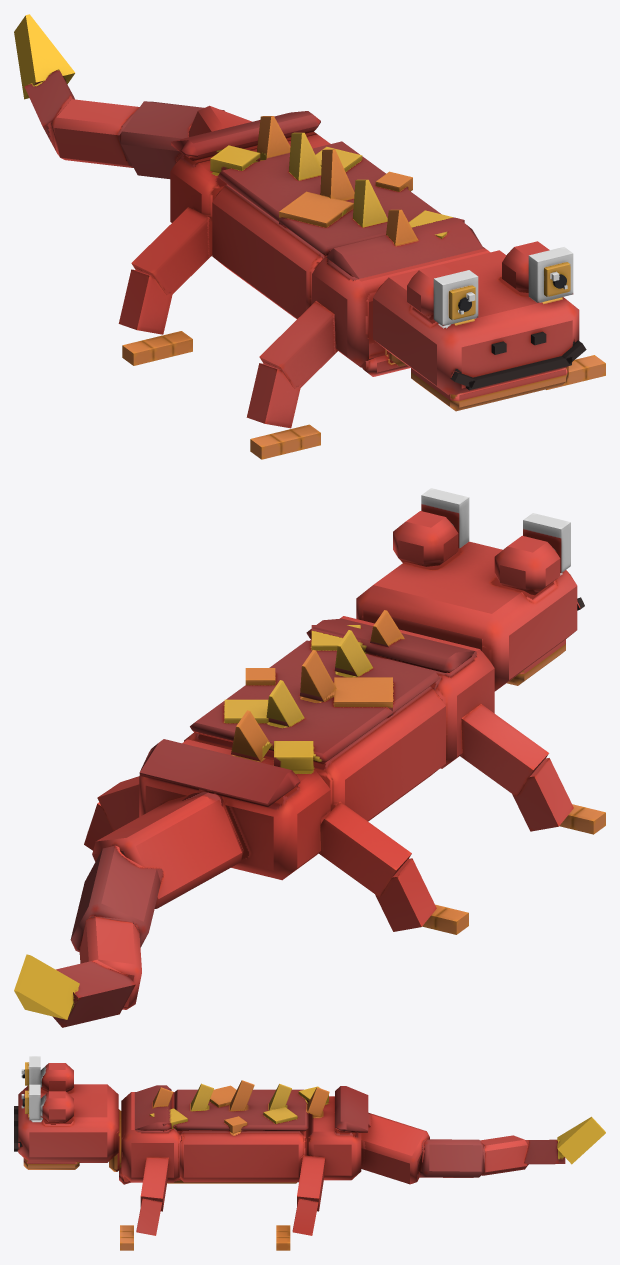
Rendered from SalamandreBraise_Rig.fbx.
3 views of the same model, one above another, from view 1: azimuth 30°, elevation 25°; view 2: azimuth 150°, elevation 25°; view 3: azimuth 270°, elevation 25° (orthographic). The views are drawn at different scales.
Parts seen in each view (by area): view 1: Body, Head, Tail, LegBR, LegFR, Crest, LegFL; view 2: Body, Head, Tail, LegBR, LegFR, Crest, LegBL; view 3: Body, Tail, Head, LegBL, LegFL, Crest.
Boxes of the visible parts, x1,y1,x2,y2 form: Body: [170, 111, 490, 376]; Head: [373, 241, 586, 411]; Tail: [14, 14, 251, 178]; LegBR: [118, 207, 212, 365]; LegFR: [246, 301, 338, 459]; Crest: [257, 116, 418, 246]; LegFL: [546, 355, 605, 389]; Body: [139, 616, 494, 880]; Head: [356, 488, 584, 691]; Tail: [14, 792, 244, 1027]; LegBR: [318, 801, 468, 934]; LegFR: [459, 704, 605, 834]; Crest: [231, 610, 404, 761]; LegBL: [84, 776, 139, 850]; Body: [109, 1085, 368, 1184]; Tail: [361, 1112, 605, 1184]; Head: [14, 1056, 118, 1169]; LegBL: [276, 1155, 325, 1250]; LegFL: [120, 1157, 168, 1250]; Crest: [153, 1080, 329, 1116].
Bounding box in the file's own units: 10.66 × 6 × 26.01.
Materials: 1 (1 with a texture image).
